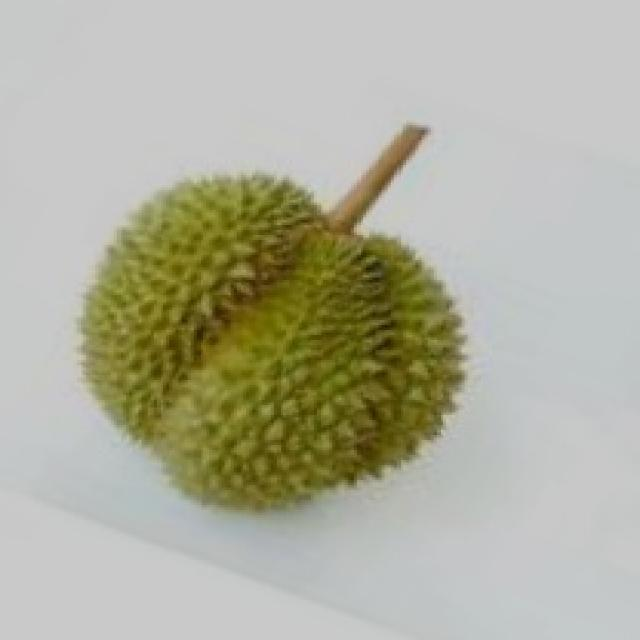fruit: (37, 168, 443, 562)
